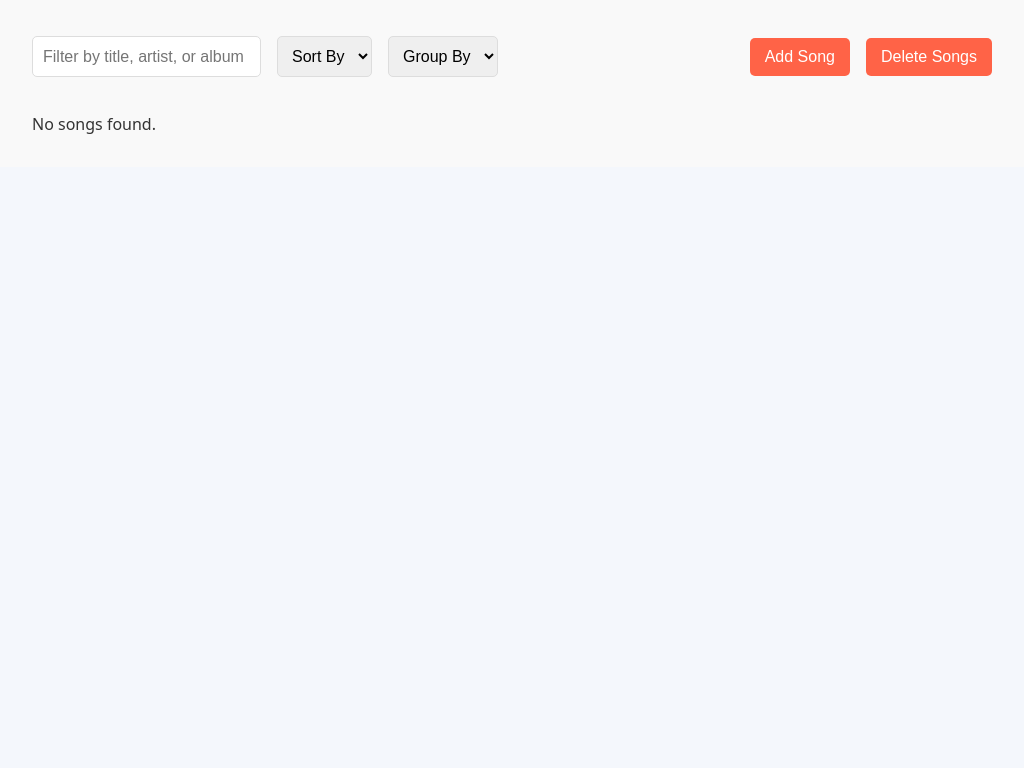
it: MusicLibrary Component › adds a new song and closes the modal
This screenshot has width=1024, height=768.
Click the button "Add Song". click: (800, 56)
box: 750,38 -> 850,76
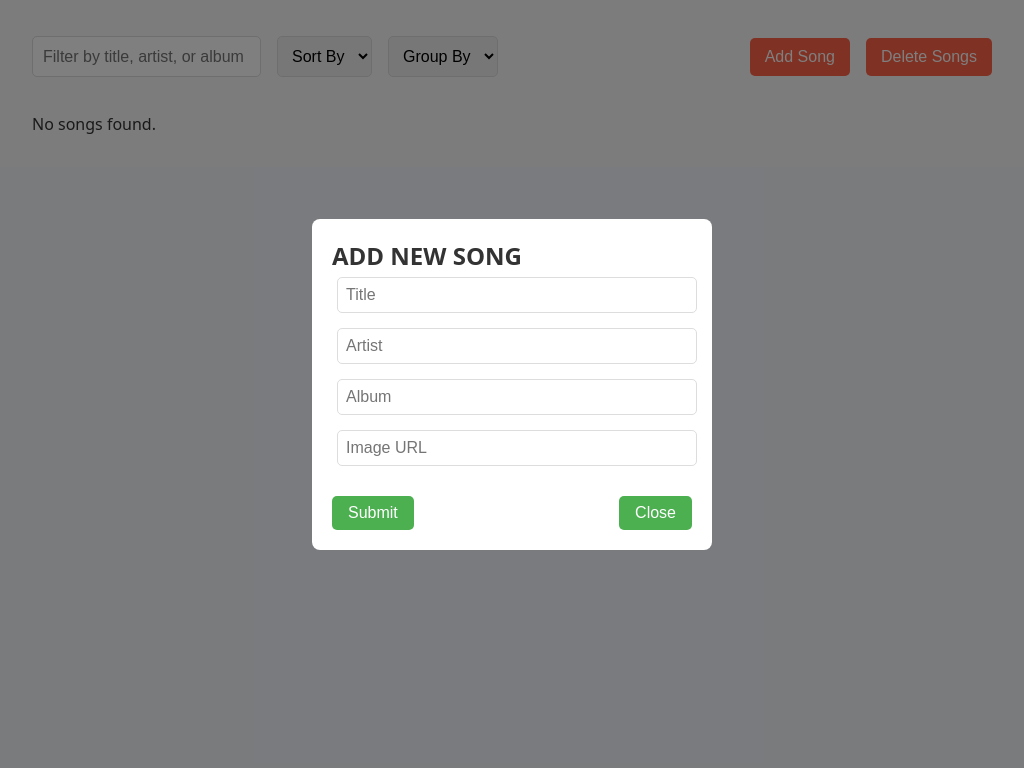
Expected: the heading "ADD NEW SONG" is shown, 332,238 -> 522,272
Type "New Song" into the field with placeholder "Title". click: (517, 294)
box: 337,276 -> 697,312
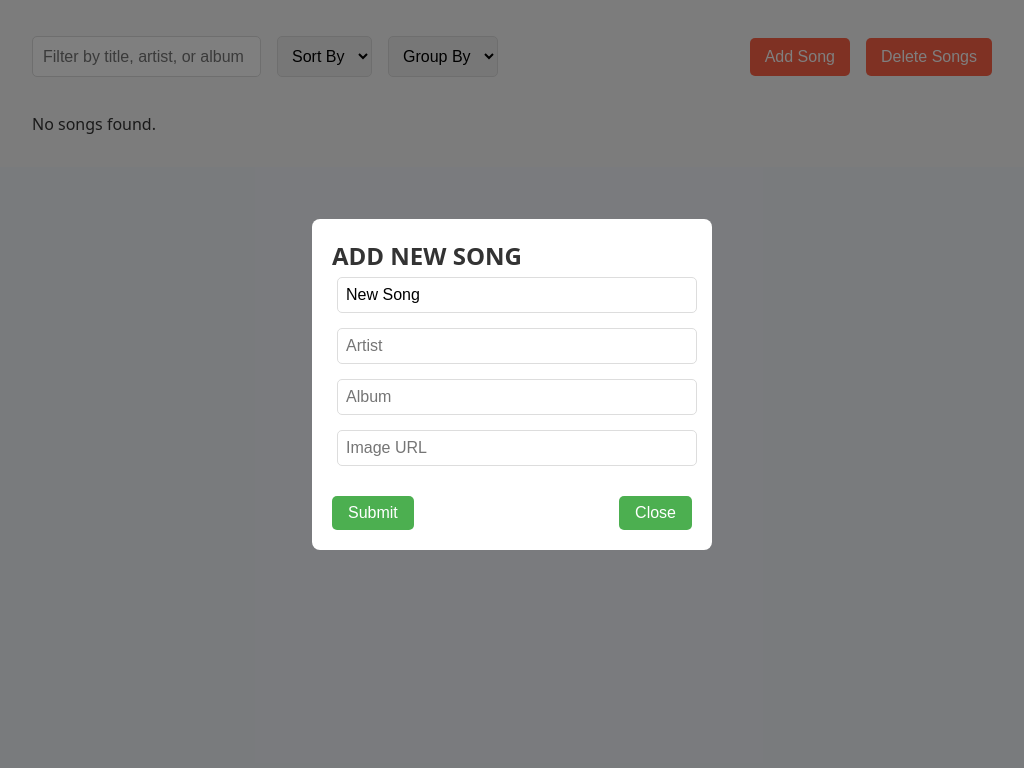
Type "New Artist" into the field with placeholder "Artist". click: (517, 346)
box: 337,328 -> 697,364
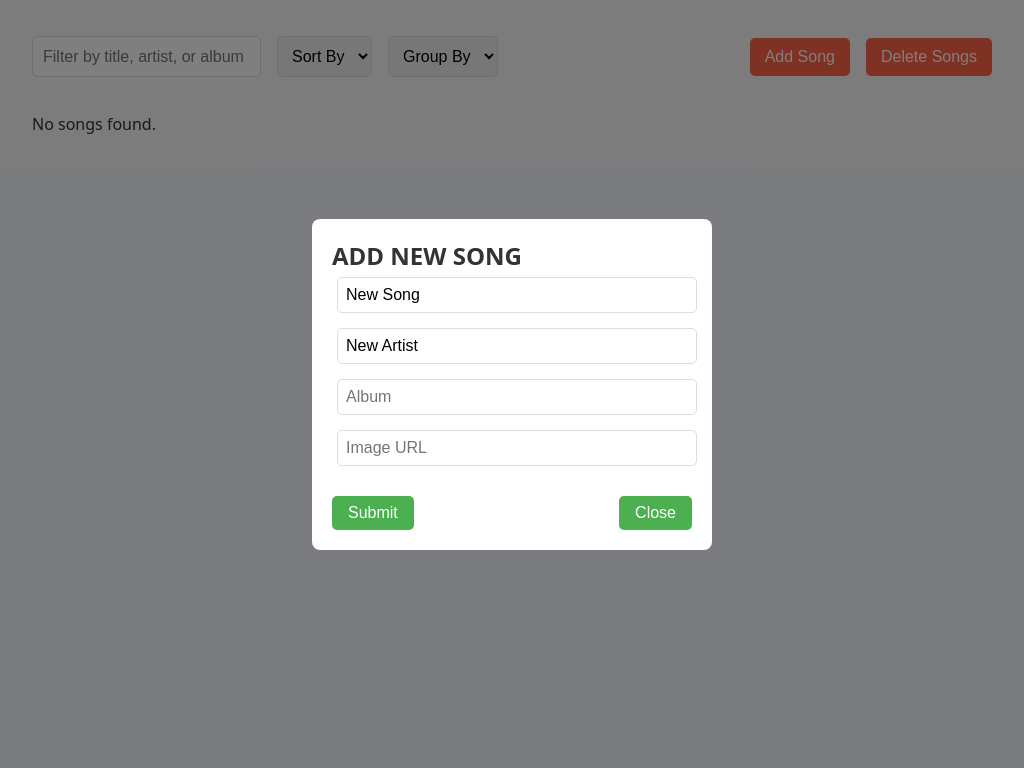
Type "Album X" into the field with placeholder "Album". click: (517, 396)
box: 337,378 -> 697,414
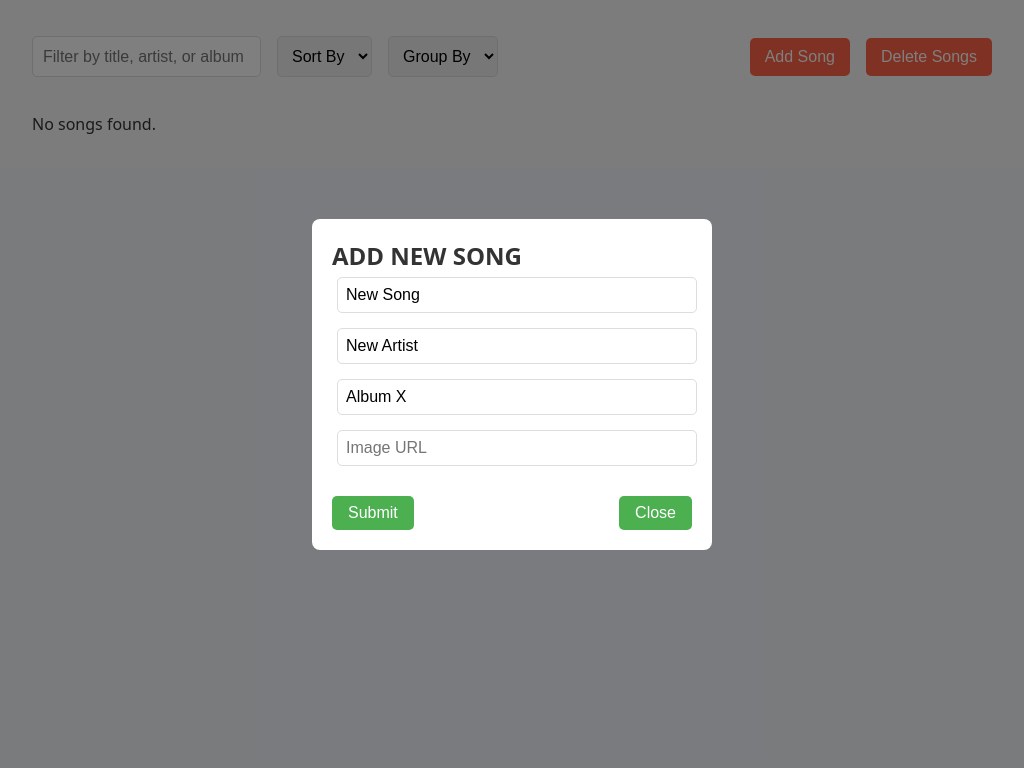
Click the button "Submit". click: (373, 512)
box: 332,496 -> 414,530
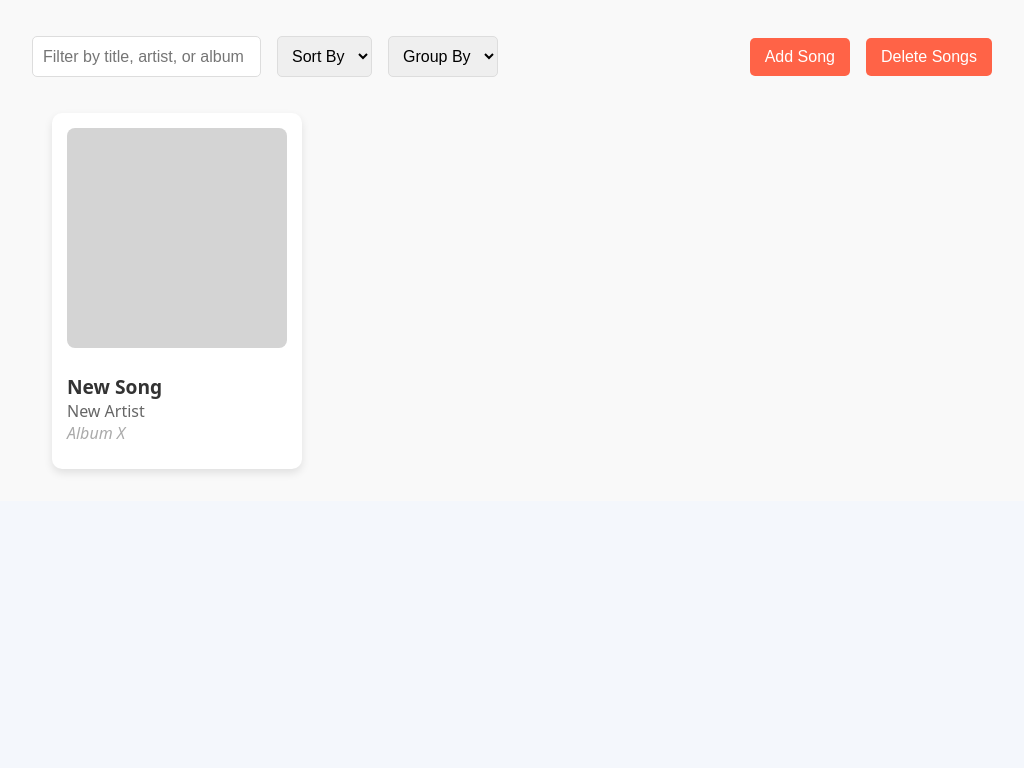
Expected: the text "New Song" is shown, 67,373 -> 162,400
Expected: the heading "ADD NEW SONG" is gone
